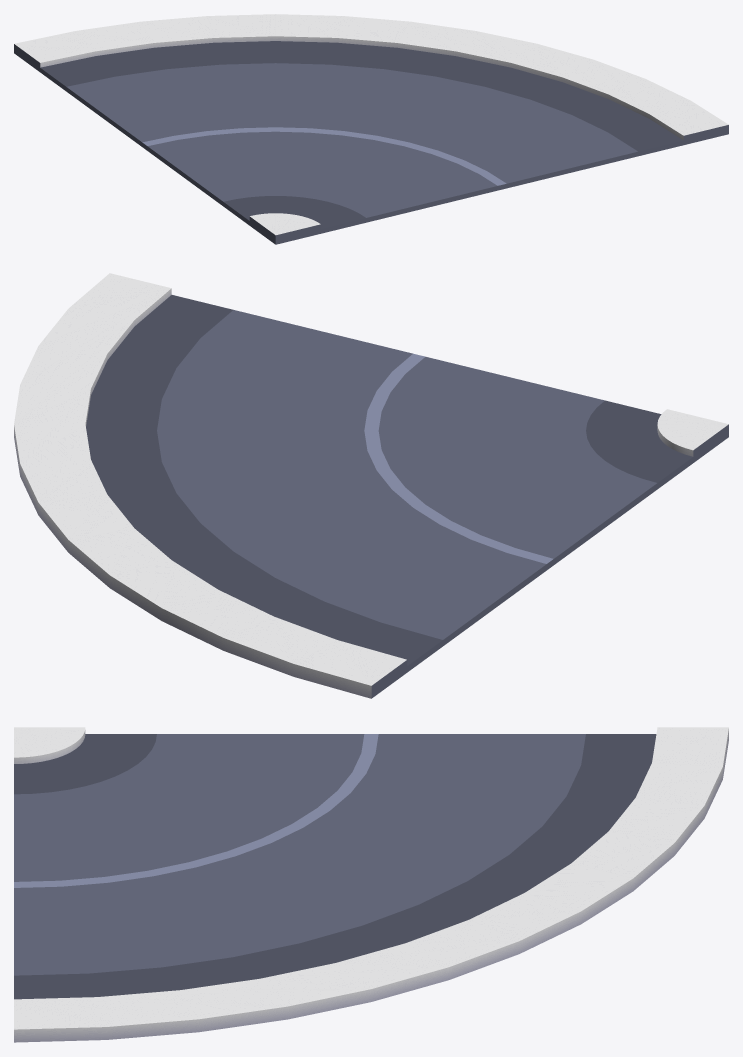
Rendered from road-bend.glb.
The picture shows the model from 3 angles, top to bottom: view 1: azimuth 30°, elevation 25°; view 2: azimuth 150°, elevation 25°; view 3: azimuth 270°, elevation 25°; orthographic projection. The views are drawn at different scales.
Parts seen in each view (by area): view 1: road-bend; view 2: road-bend; view 3: road-bend.
Boxes of the visible parts, left/top/right/bottom form: road-bend: left=14, top=14, right=728, bottom=244; road-bend: left=14, top=273, right=728, bottom=698; road-bend: left=14, top=727, right=728, bottom=1042.
Size of the model in its own units: 1 by 0.02 by 1.
Materials: 1 (1 with a texture image).
